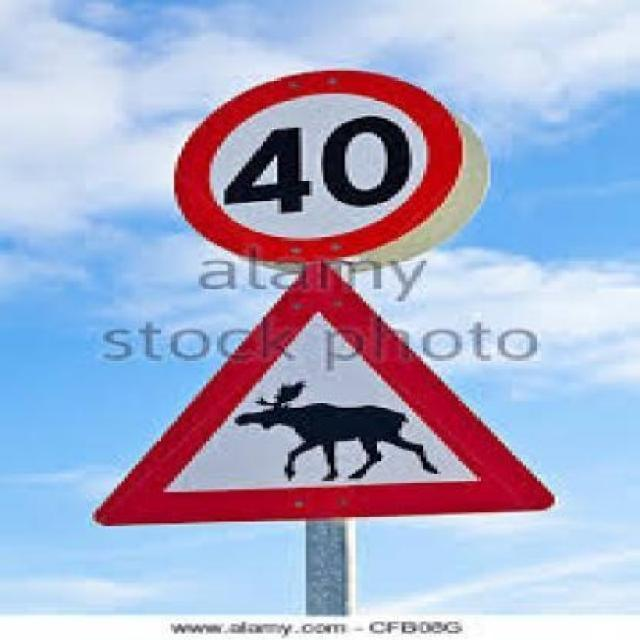forb_speed_over_40: (181, 69, 456, 253)
